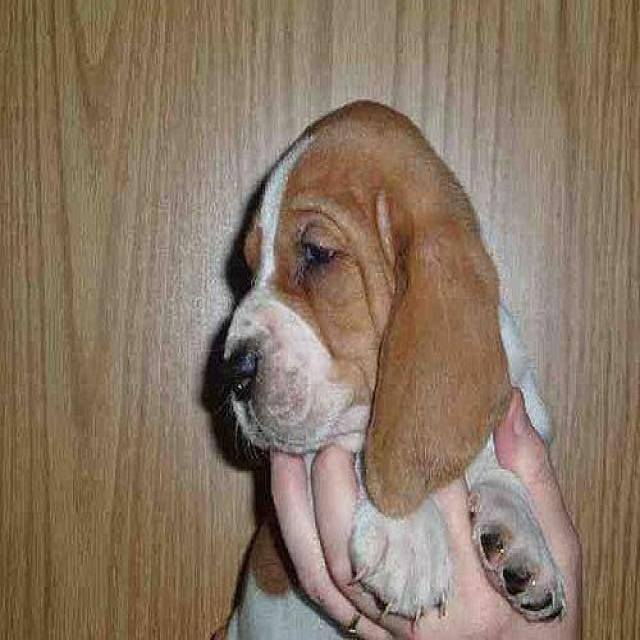basset: (219, 97, 571, 638)
